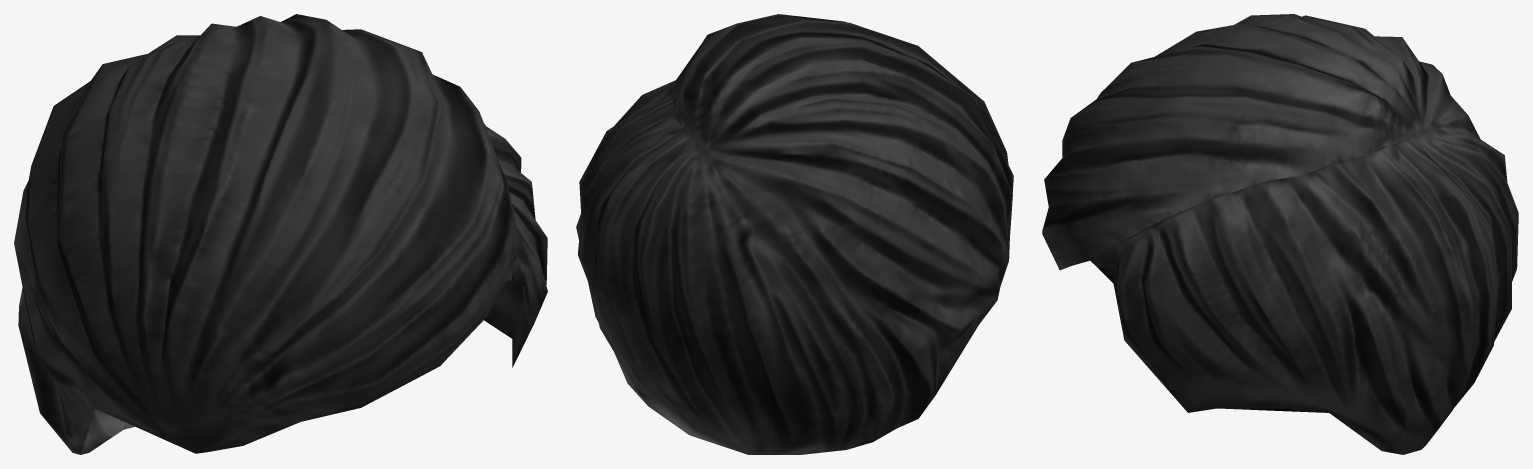
Rendered from AF_M_hair_28.fbx.
The picture shows the model from 3 angles, left to right: view 1: azimuth 30°, elevation 25°; view 2: azimuth 150°, elevation 25°; view 3: azimuth 270°, elevation 25°; orthographic projection. The views are drawn at different scales.
Parts seen in each view (by area): view 1: AF_M_hair_28; view 2: AF_M_hair_28; view 3: AF_M_hair_28.
Part boxes in pixels (left/top/right/bottom): AF_M_hair_28: left=14, top=14, right=547, bottom=454; AF_M_hair_28: left=576, top=14, right=1013, bottom=454; AF_M_hair_28: left=1042, top=14, right=1518, bottom=454.
Size of the model in its own units: 721 by 662 by 748.
